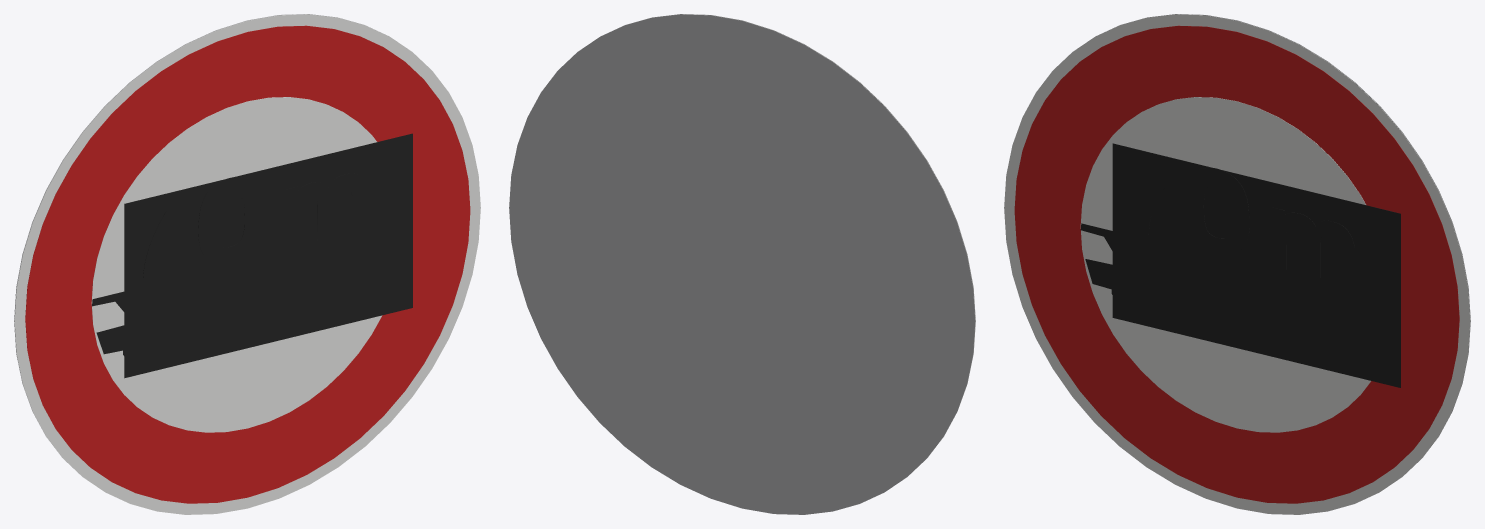
3 renders of one model, left to right at view 1: azimuth 30°, elevation 25°; view 2: azimuth 150°, elevation 25°; view 3: azimuth 330°, elevation 25°, orthographic.
Parts seen in each view (by area): view 1: B17_p01, B17_p05, B17_p02, B17_p00, B17_p07, B17_p08, B17_p06, B17_p03, B17_dos; view 2: B17_dos, B17_p00; view 3: B17_p01, B17_p05, B17_p02, B17_p00, B17_p08, B17_p07, B17_p06, B17_p03, B17_dos.
Part boxes in pixels (x1,y1,x2,y2): B17_p01: (25, 25, 470, 503); B17_p05: (124, 133, 412, 378); B17_p02: (91, 97, 382, 432); B17_p00: (14, 14, 480, 514); B17_p07: (198, 177, 261, 264); B17_p08: (283, 173, 366, 249); B17_p06: (133, 188, 187, 283); B17_p03: (92, 291, 124, 355); B17_dos: (14, 14, 385, 473); B17_dos: (509, 14, 975, 514); B17_p00: (604, 14, 975, 473); B17_p01: (1014, 25, 1459, 503); B17_p05: (1112, 143, 1400, 387); B17_p02: (1080, 97, 1370, 432); B17_p00: (1004, 14, 1470, 514); B17_p08: (1270, 207, 1354, 286); B17_p07: (1186, 167, 1249, 255); B17_p06: (1121, 145, 1175, 236); B17_p03: (1080, 223, 1112, 294); B17_dos: (1099, 14, 1470, 473).
Size of the model in its own units: 0.85 by 0.8498 by 0.0051.
